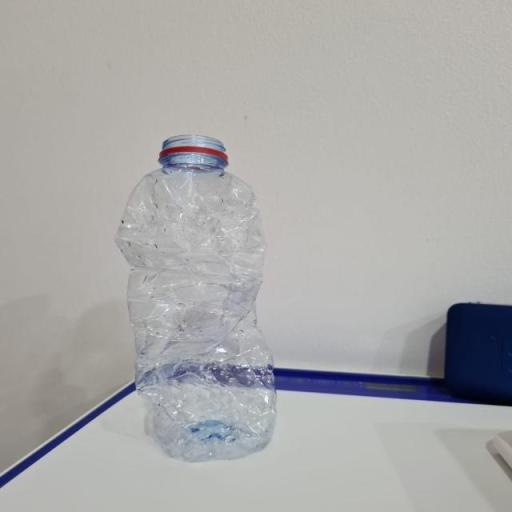plastic: (108, 130, 284, 464)
